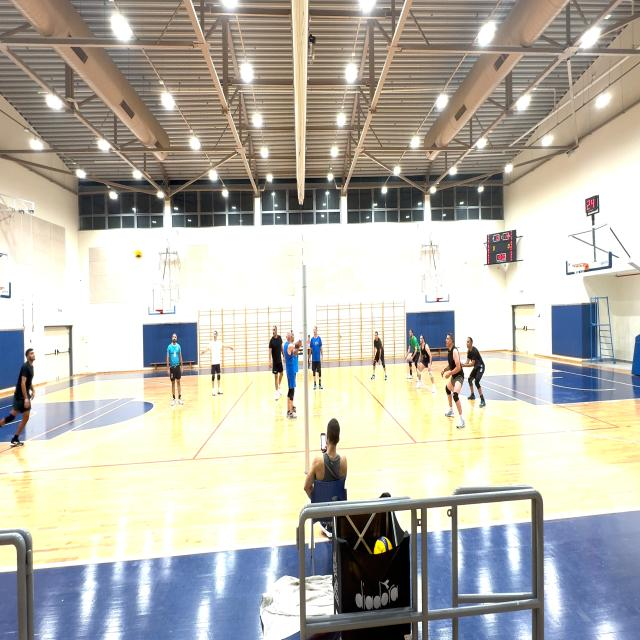volleyball: (373, 536, 393, 555), (135, 250, 142, 258)
